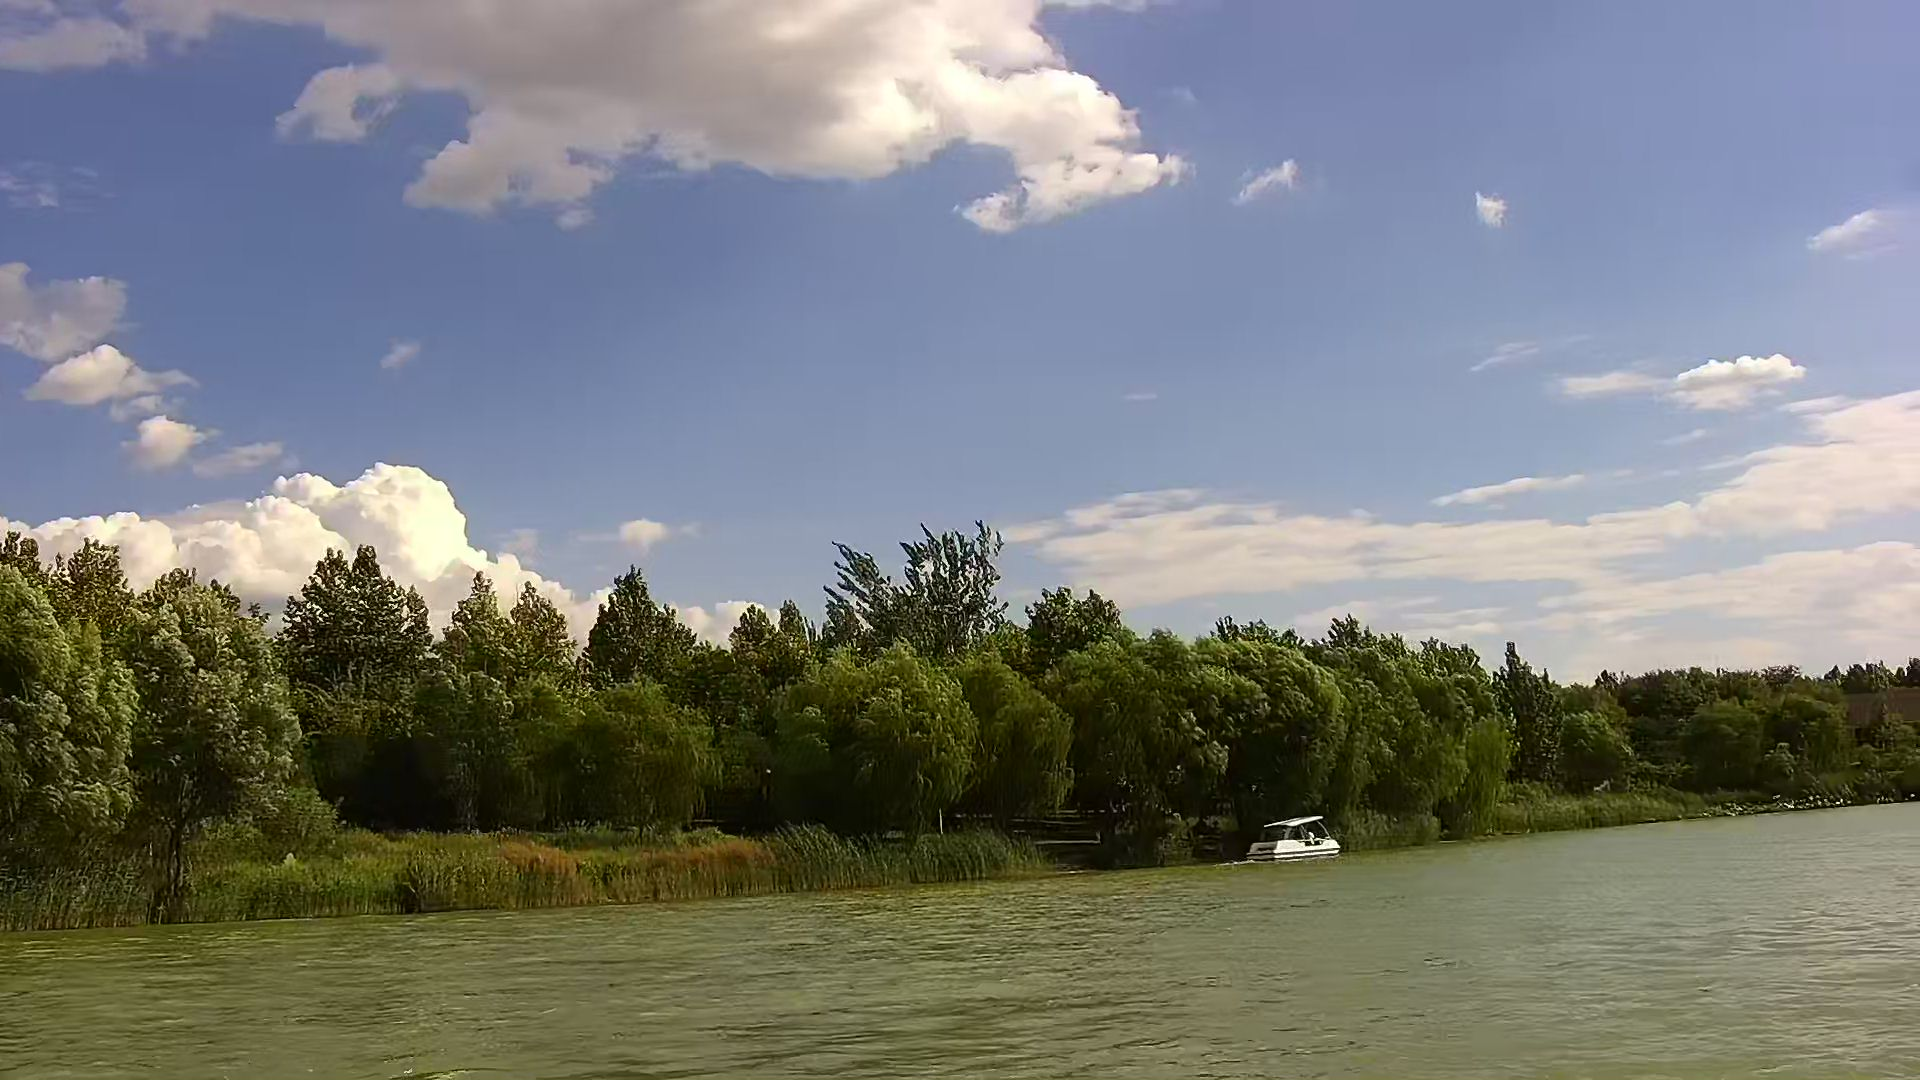boat: (1241, 808, 1335, 858)
